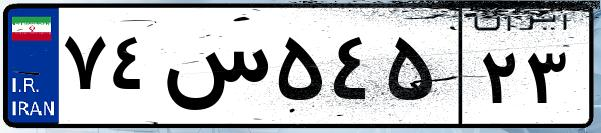2: (475, 38, 525, 113)
3: (525, 38, 570, 115)
4: (330, 28, 385, 110), (110, 28, 158, 98)
5: (270, 28, 330, 110), (385, 28, 445, 110)
7: (57, 26, 110, 100)
س: (158, 20, 270, 120)
